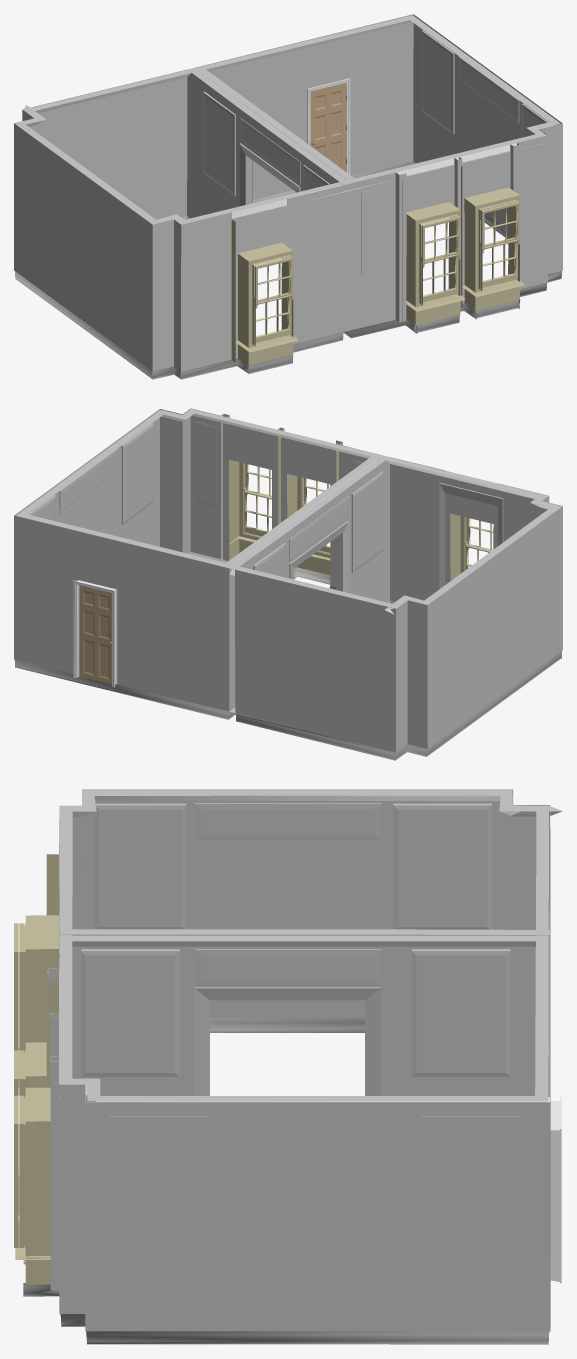
Rendered from Room.fbx.
3 renders of one model, top to bottom at view 1: azimuth 30°, elevation 25°; view 2: azimuth 150°, elevation 25°; view 3: azimuth 270°, elevation 25°, orthographic. The views are drawn at different scales.
Visible parts, largest first — view 1: Walls, WallsDetails, Coving.003, Windows.002, Windows.000, Windows.001, Skirting, Door.000, Coving_Low.002, DoorFrame.000; view 2: Walls, WallsDetails, Coving.003, Skirting, Door.000, Windows.000, Coving_Low.000, Windows.001, Windows.002, DoorFrame.000, Coving_Low.002; view 3: Walls, WallsDetails, Coving.003, Skirting, Windows.000, Windows.002, Coving_Low.001, DoorFrame.000, Windows.001.
Part boxes in pixels (<box>): Walls: <box>14,14,562,371</box>; WallsDetails: <box>202,30,548,275</box>; Coving.003: <box>15,15,560,224</box>; Windows.002: <box>231,219,297,365</box>; Windows.000: <box>461,166,524,310</box>; Windows.001: <box>402,181,464,325</box>; Skirting: <box>15,161,561,379</box>; Door.000: <box>310,82,346,171</box>; Coving_Low.002: <box>239,143,300,206</box>; DoorFrame.000: <box>307,78,350,174</box>; Walls: <box>14,408,562,752</box>; WallsDetails: <box>28,421,383,598</box>; Coving.003: <box>16,409,561,607</box>; Skirting: <box>14,552,561,760</box>; Door.000: <box>79,585,111,683</box>; Windows.000: <box>229,437,280,559</box>; Coving_Low.000: <box>439,483,503,588</box>; Windows.001: <box>287,451,338,575</box>; Windows.002: <box>450,514,493,580</box>; DoorFrame.000: <box>73,579,117,687</box>; Coving_Low.002: <box>289,521,349,592</box>; Walls: <box>47,789,550,1331</box>; WallsDetails: <box>59,803,519,1242</box>; Coving.003: <box>59,790,548,1101</box>; Skirting: <box>23,1018,549,1344</box>; Windows.000: <box>14,1026,50,1284</box>; Windows.002: <box>14,854,58,1087</box>; Coving_Low.001: <box>194,987,380,1095</box>; DoorFrame.000: <box>548,1097,561,1283</box>; Windows.001: <box>14,981,58,1214</box>.
Size of the model in its own units: 1876 by 678 by 1390.
